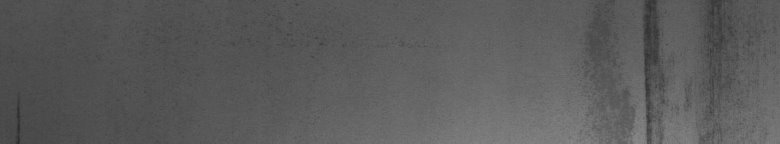ka: (619, 4, 728, 136)
